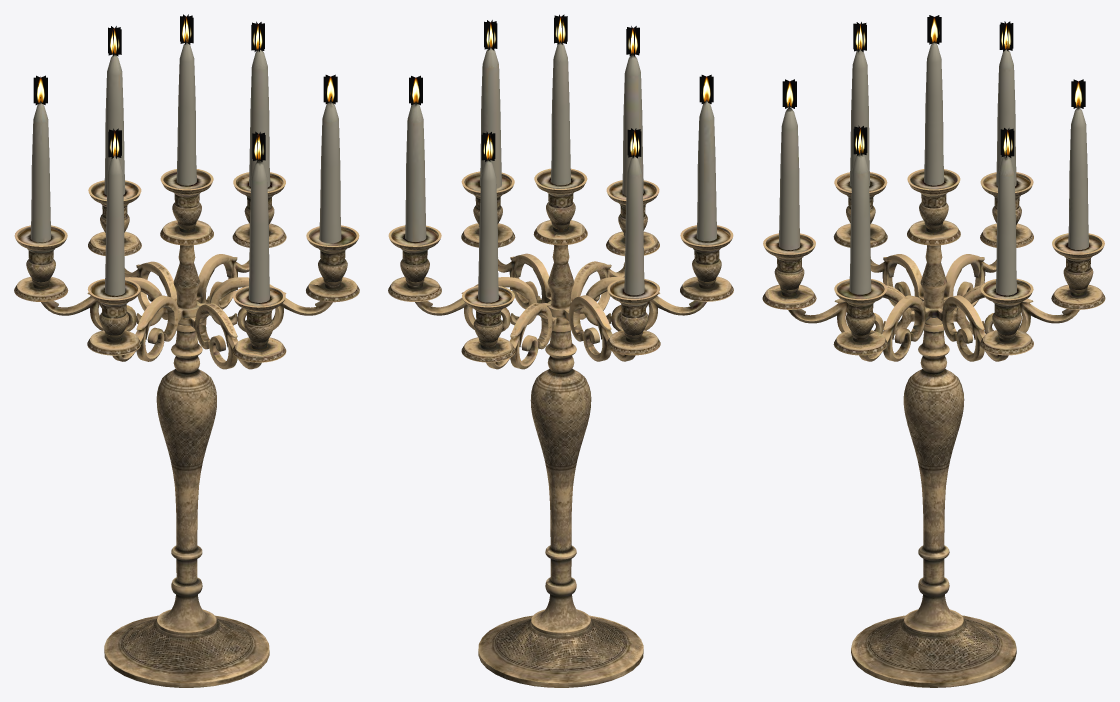
File: candelabra-brass.glb
3 views of the same model, side by side, from view 1: azimuth 30°, elevation 25°; view 2: azimuth 150°, elevation 25°; view 3: azimuth 270°, elevation 25° (orthographic).
Visible parts, largest first — view 1: candelabra-brass; view 2: candelabra-brass; view 3: candelabra-brass.
Part boxes in pixels (x1=…): candelabra-brass: x1=14, y1=14, x2=359, y2=687; candelabra-brass: x1=388, y1=14, x2=733, y2=687; candelabra-brass: x1=762, y1=15, x2=1105, y2=687.
Size of the model in its own units: 0.3647 by 0.8353 by 0.4083.
Materials: 2 (2 with a texture image).
